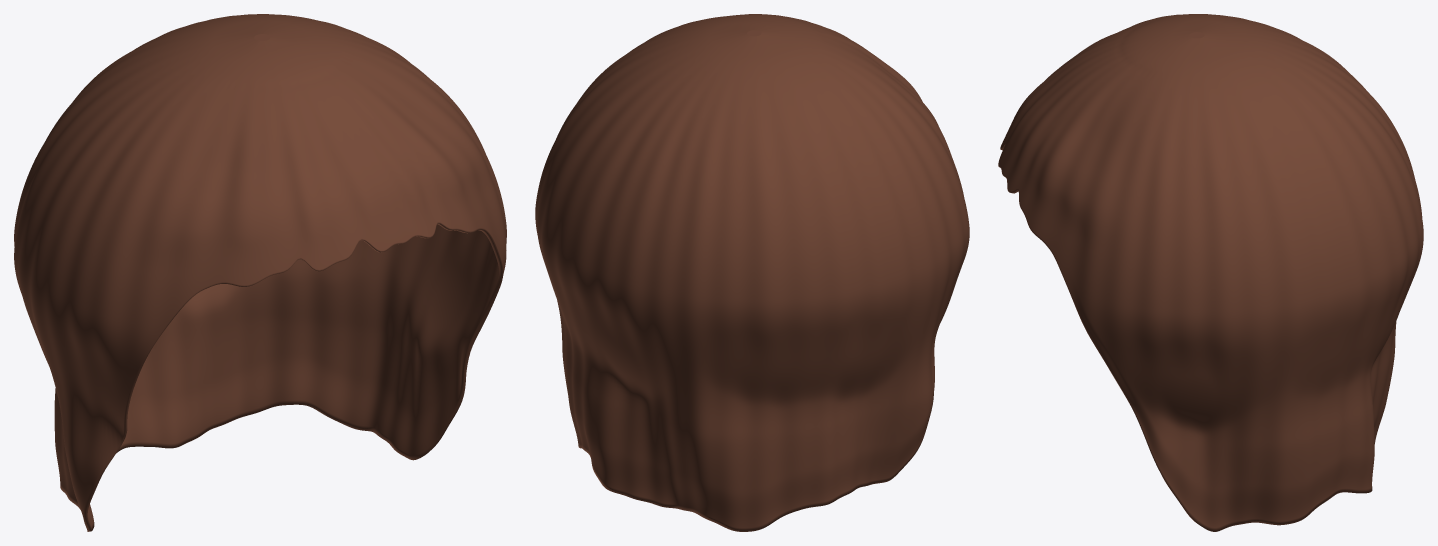
Rendered from bangs.glb.
The picture shows the model from 3 angles, left to right: view 1: azimuth 30°, elevation 25°; view 2: azimuth 150°, elevation 25°; view 3: azimuth 270°, elevation 25°; orthographic projection. The views are drawn at different scales.
Visible parts, largest first — view 1: Hair / soft bangs; view 2: Hair / soft bangs; view 3: Hair / soft bangs.
Part boxes in pixels (x1,y1,x2,y2): Hair / soft bangs: [14, 14, 506, 531]; Hair / soft bangs: [535, 14, 969, 531]; Hair / soft bangs: [998, 14, 1423, 531].
Size of the model in its own units: 0.8203 by 0.8761 by 0.7715.
